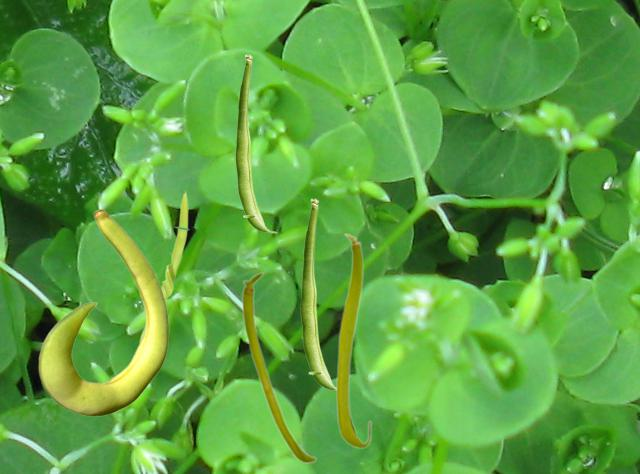french_bean: (38, 209, 168, 415), (241, 271, 316, 463), (138, 189, 189, 342), (335, 232, 371, 448), (235, 54, 277, 232), (300, 198, 334, 390)
